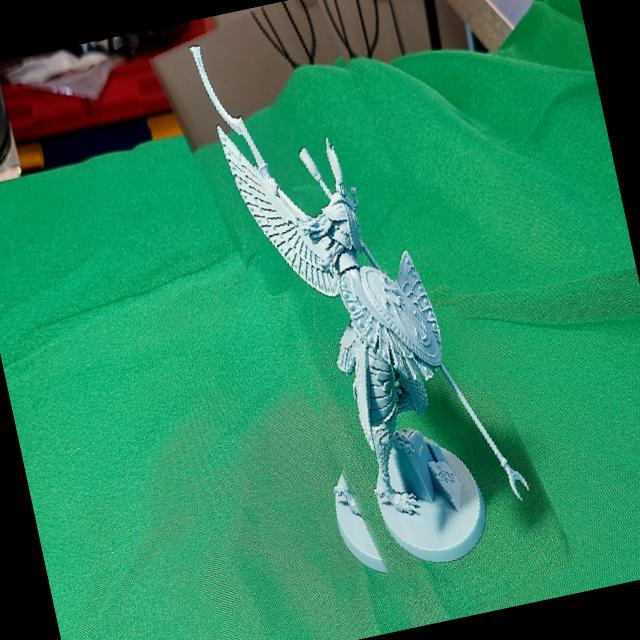isis: (176, 0, 551, 640)
